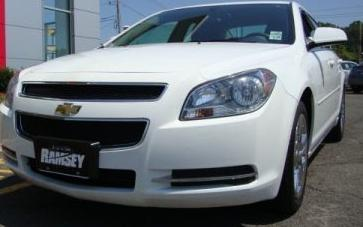back_view: (199, 68, 275, 153)
backlight: (69, 63, 209, 172)
front_view: (169, 66, 287, 125)
headlight: (177, 67, 278, 126)
side_glass: (70, 112, 136, 173)
